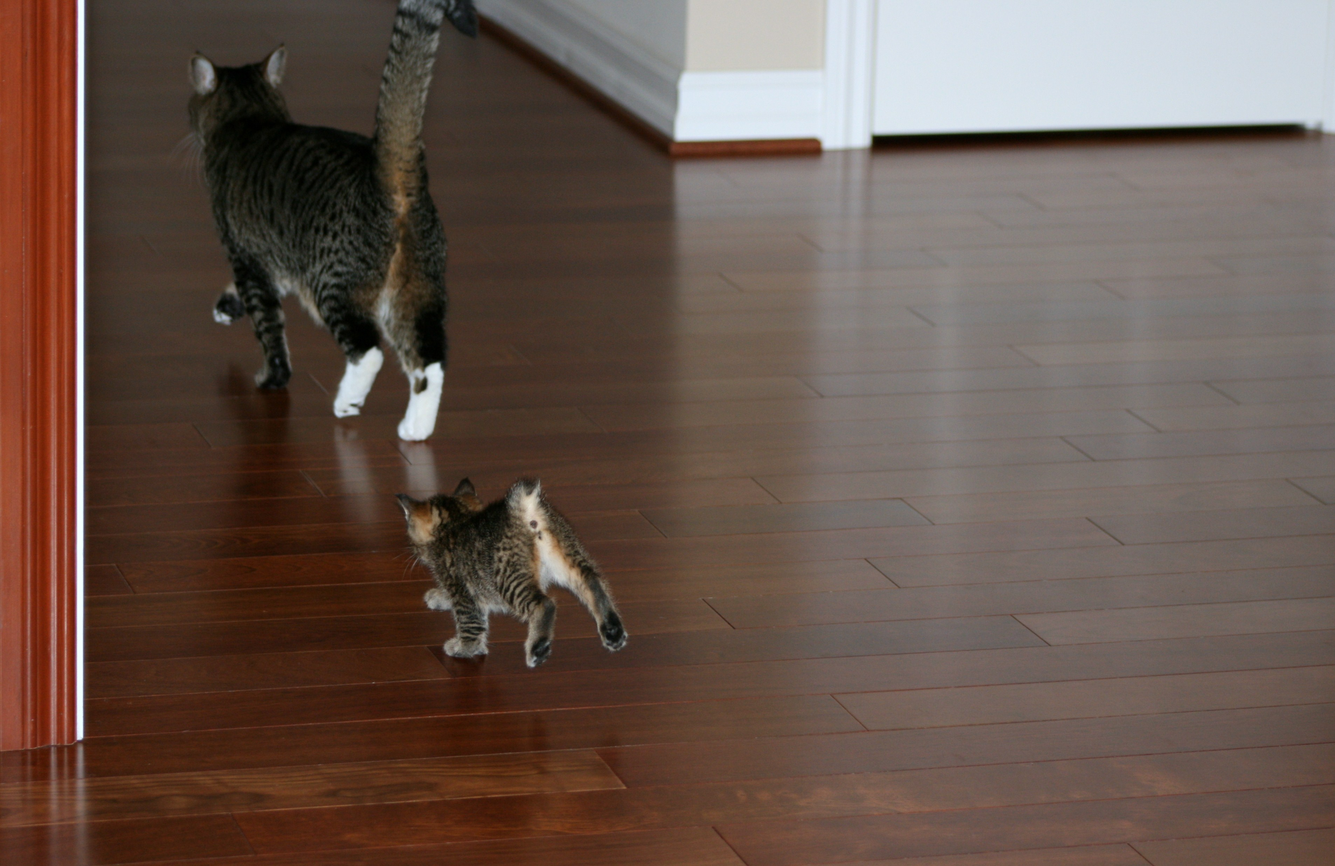cat: (166, 0, 501, 446), (388, 482, 636, 663)
